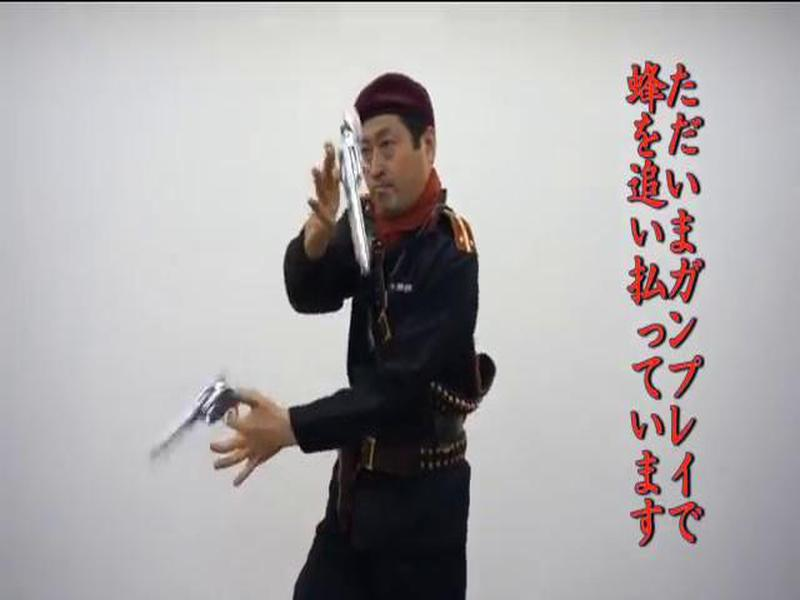Revolver: (137, 359, 267, 476), (320, 103, 390, 274)
